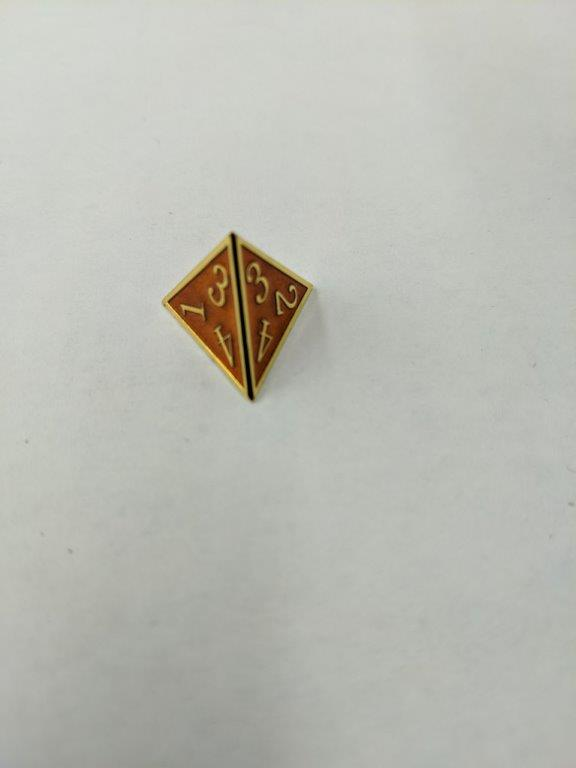d4-3: (158, 230, 316, 406)
